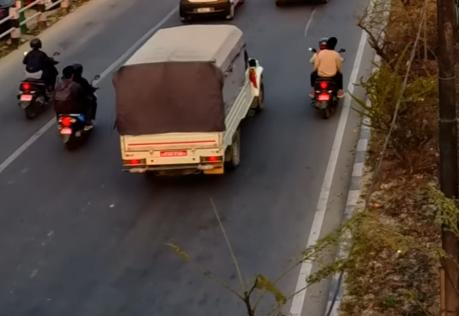scooter: (54, 62, 105, 154), (8, 34, 58, 124), (302, 32, 351, 123)
transport_vehicle: (110, 19, 265, 178)
